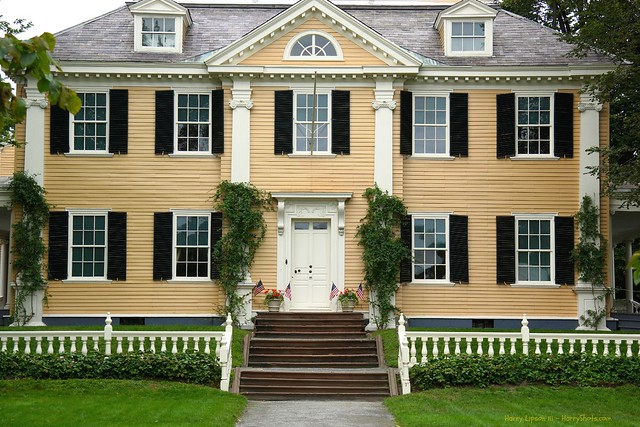high: (10, 2, 627, 397)
